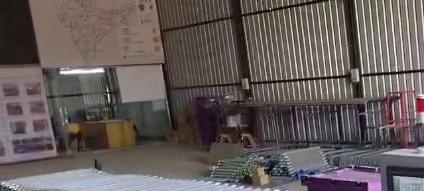box: (301, 167, 380, 190)
